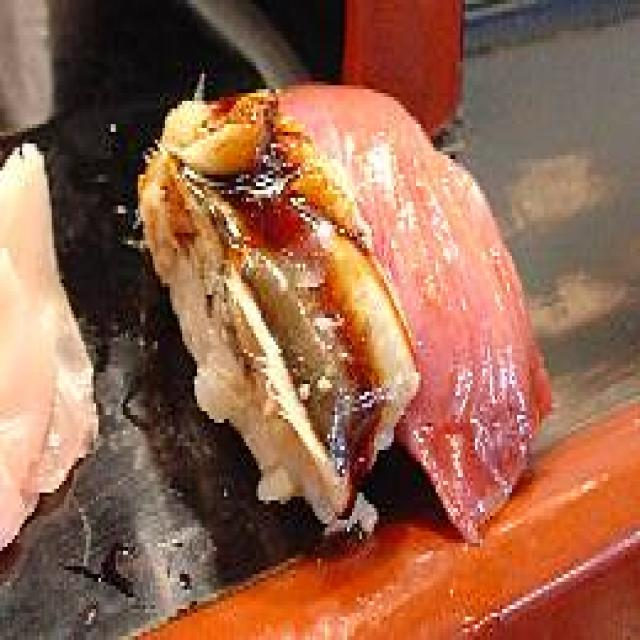寿司卷物: (99, 50, 578, 582)
